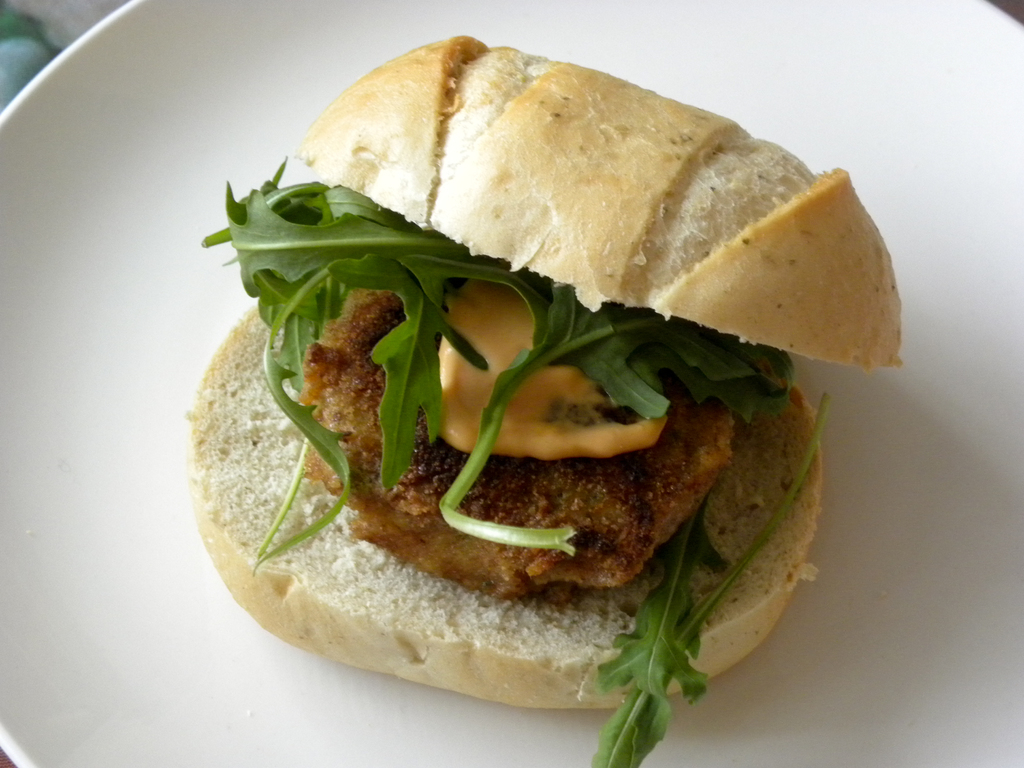Hamburger: (181, 33, 901, 767)
